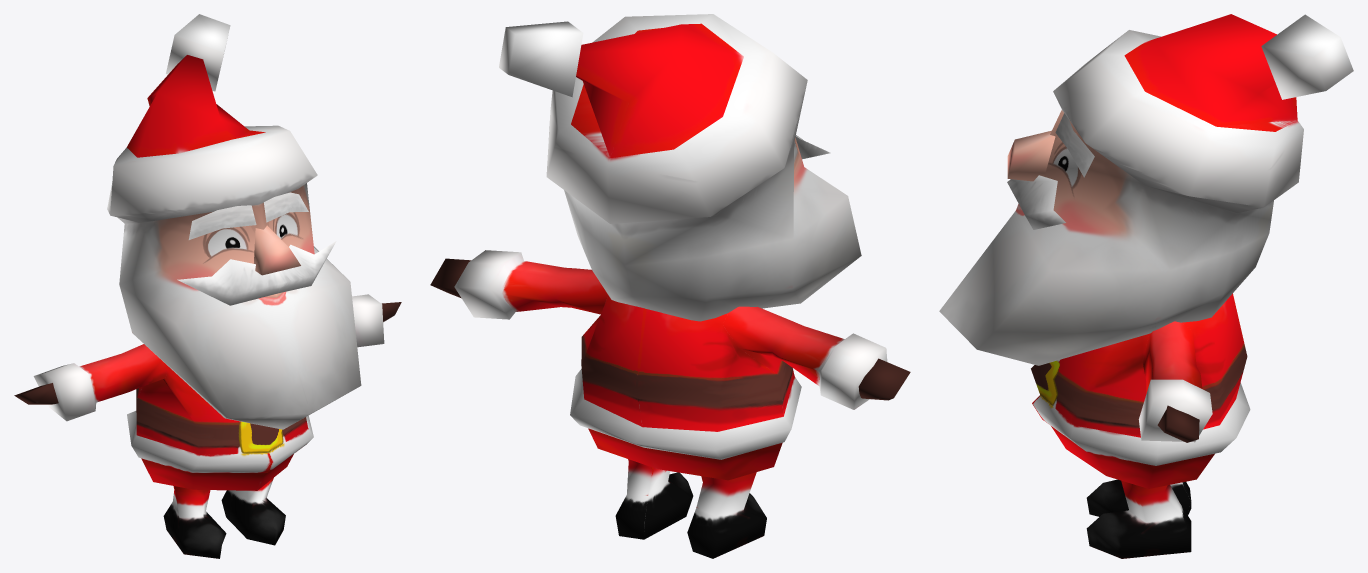
Rendered from santa.glb.
3 views of the same model, side by side, from view 1: azimuth 30°, elevation 25°; view 2: azimuth 150°, elevation 25°; view 3: azimuth 270°, elevation 25° (orthographic). The views are drawn at different scales.
Visible parts, largest first — view 1: Cube_Cube.002; view 2: Cube_Cube.002; view 3: Cube_Cube.002.
Boxes of the visible parts, x1,y1,x2,y2 form: Cube_Cube.002: [14, 14, 401, 558]; Cube_Cube.002: [430, 14, 910, 558]; Cube_Cube.002: [939, 14, 1353, 558].
Bounding box in the file's own units: 3.04 × 3.45 × 2.46.
Materials: 1 (1 with a texture image).
